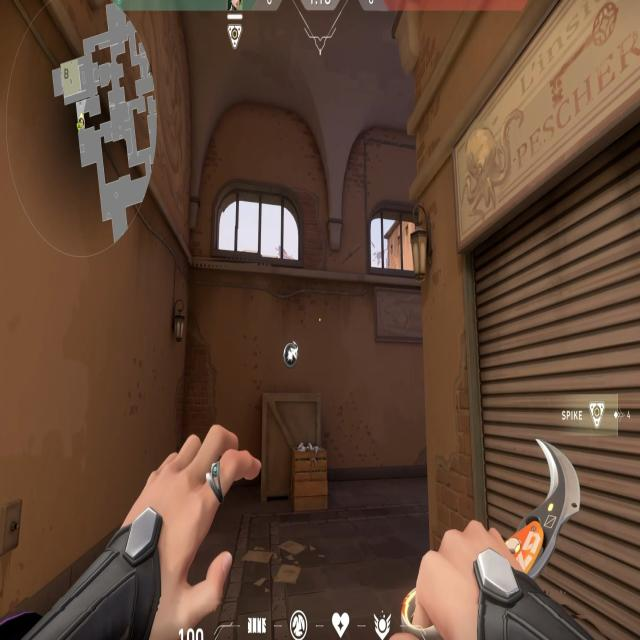B_Main_Wallbang: (253, 328, 345, 538)
Throwables: (204, 170, 315, 289), (361, 190, 424, 296)
